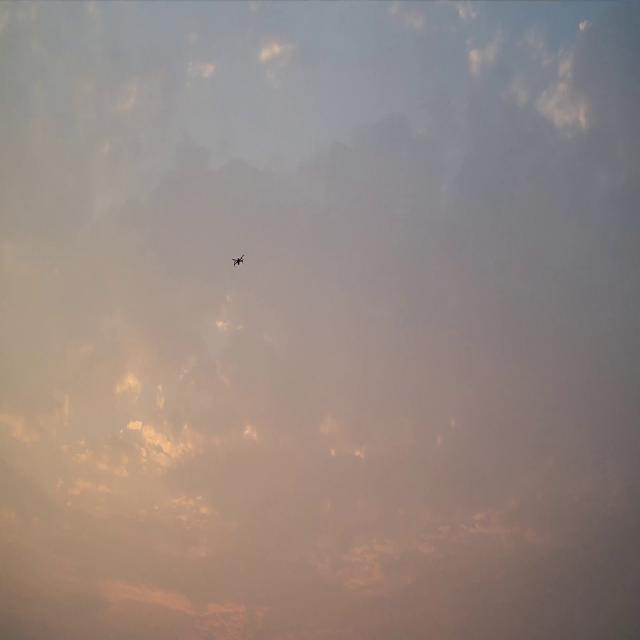UAV: (232, 254, 245, 267)
